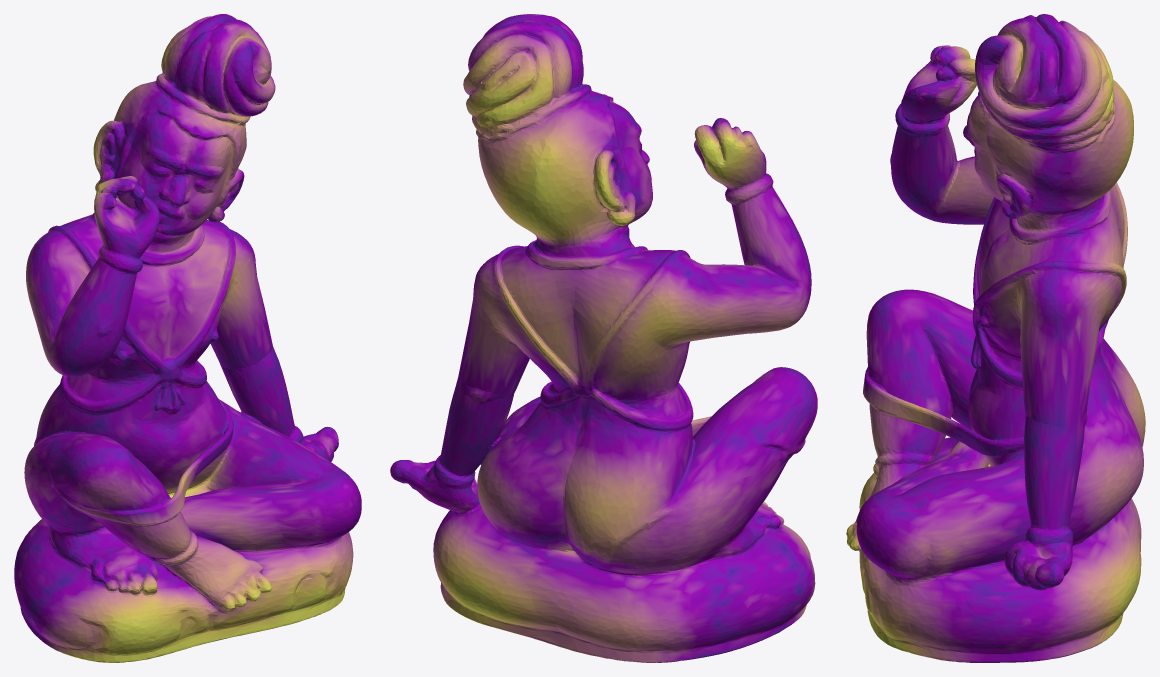
The model's file is iter_5.glb.
The picture shows the model from 3 angles, left to right: view 1: azimuth 30°, elevation 25°; view 2: azimuth 150°, elevation 25°; view 3: azimuth 270°, elevation 25°; orthographic projection. The views are drawn at different scales.
Parts seen in each view (by area): view 1: textured_mesh; view 2: textured_mesh; view 3: textured_mesh.
Part boxes in pixels (bbox=[...]): textured_mesh: bbox=[14, 14, 361, 662]; textured_mesh: bbox=[390, 14, 817, 662]; textured_mesh: bbox=[846, 14, 1145, 662].
Size of the model in its own units: 1.32 by 1.99 by 0.902.
